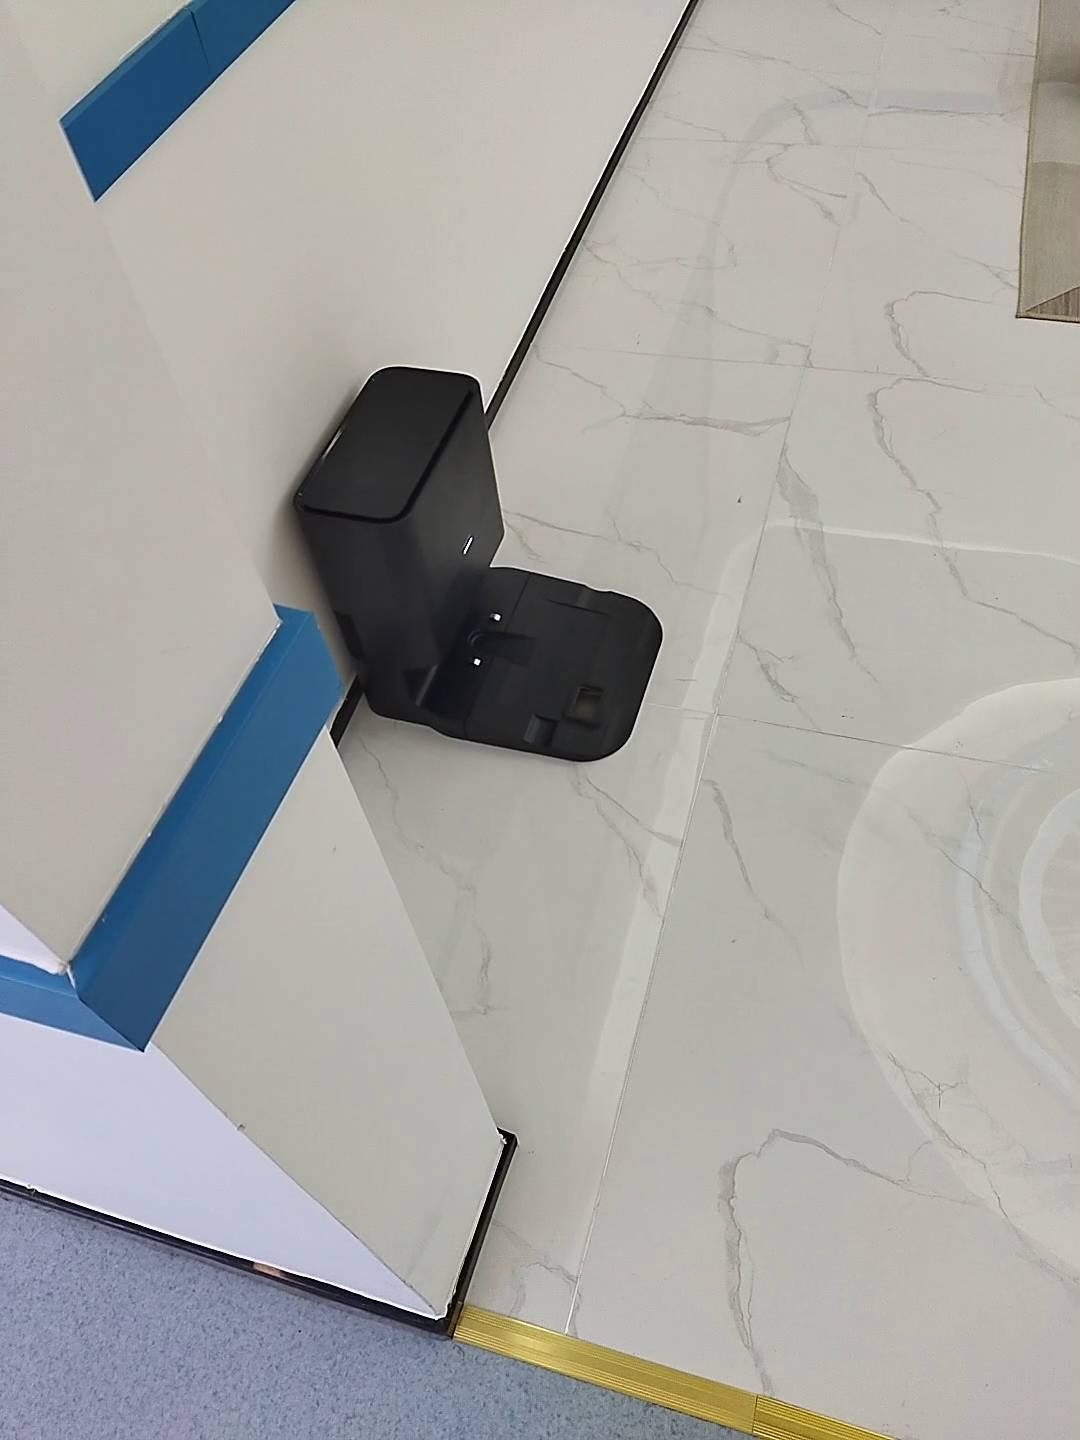dust collecting barrel: (295, 364, 664, 761)
